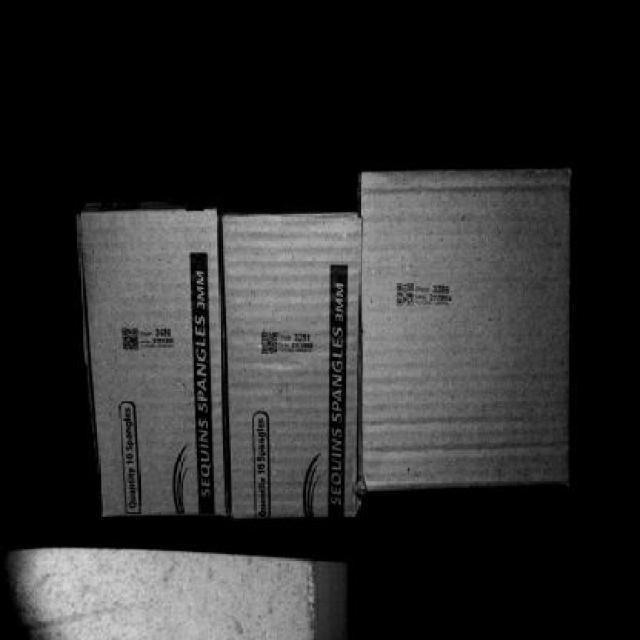box: (364, 173, 578, 482), (80, 216, 226, 518), (227, 218, 361, 517)
